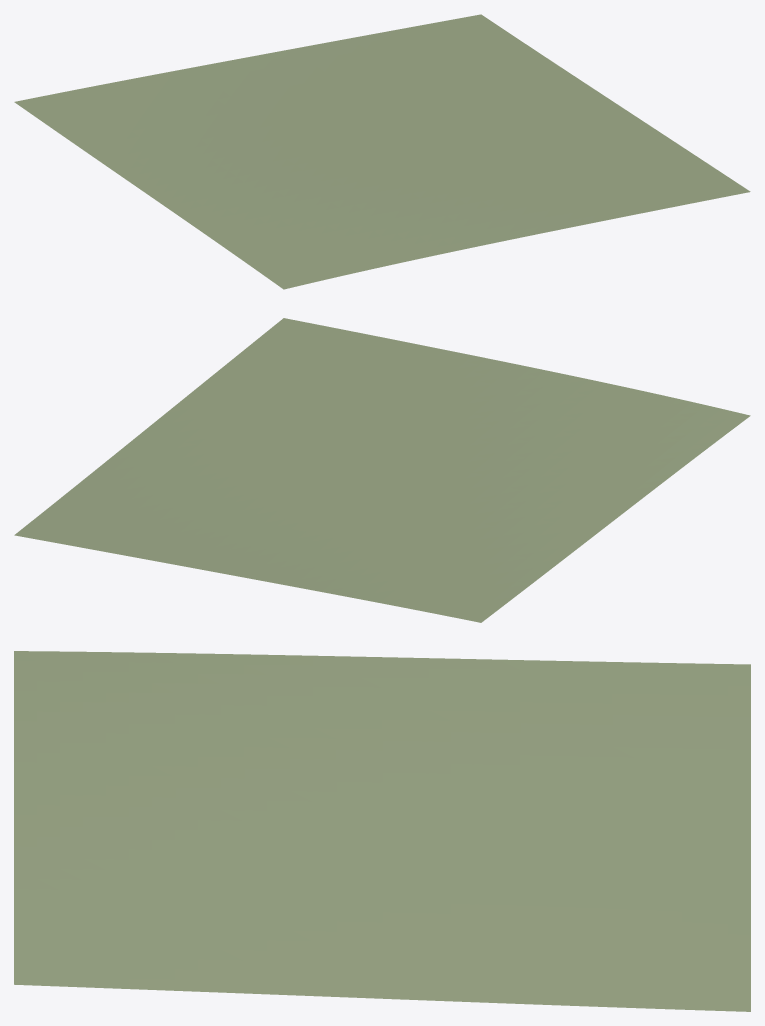
File: desert-1-24.glb
3 views of the same model, one above another, from view 1: azimuth 30°, elevation 25°; view 2: azimuth 150°, elevation 25°; view 3: azimuth 270°, elevation 25° (orthographic). The views are drawn at different scales.
Visible parts, largest first — view 1: desert-1-24; view 2: desert-1-24; view 3: desert-1-24.
Boxes of the visible parts, x1,y1,x2,y2 form: desert-1-24: (14, 14, 750, 289); desert-1-24: (14, 318, 750, 622); desert-1-24: (14, 651, 750, 1011).
Bounding box in the file's own units: 512 × 37.93 × 512.
